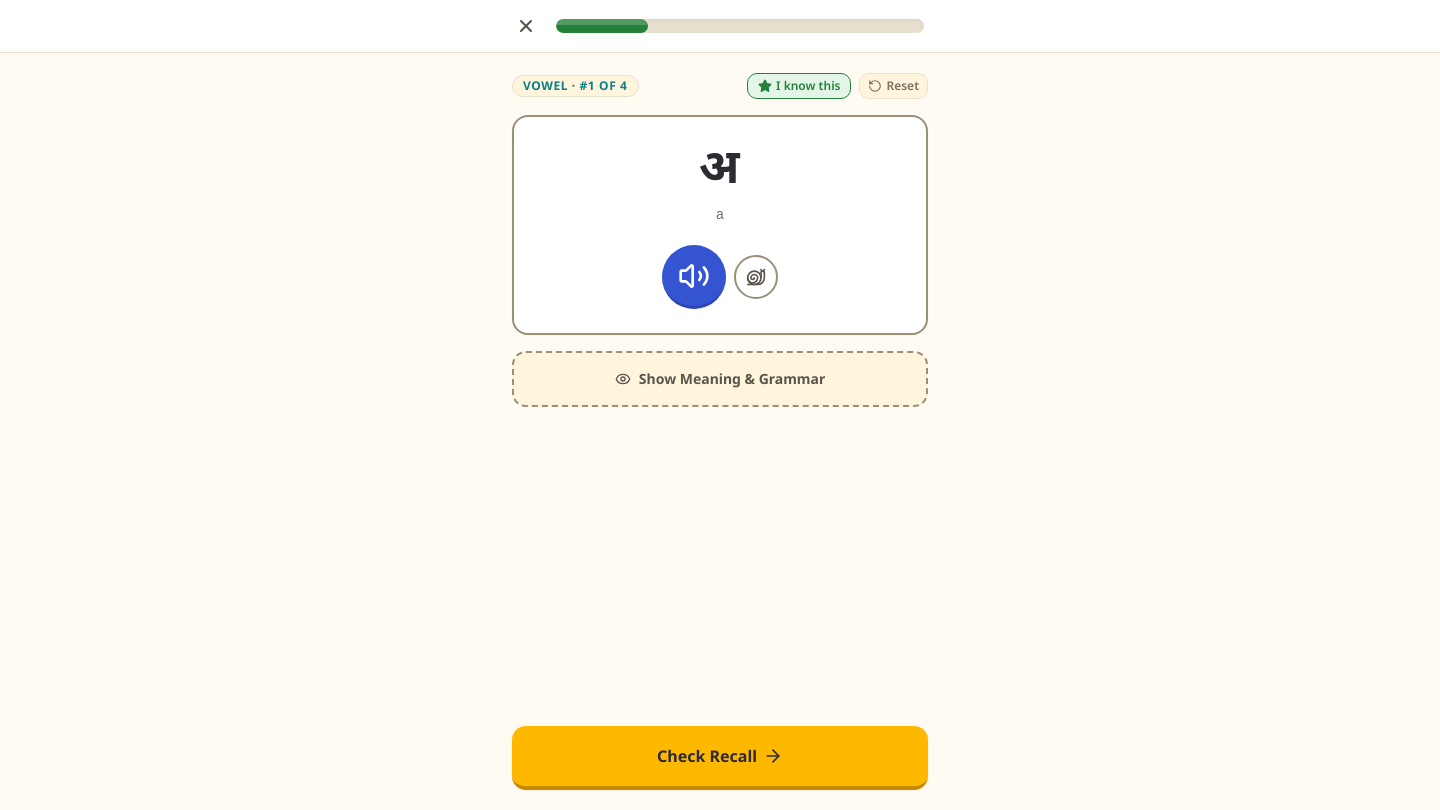
Scenario: Review Flow (SRS Spaced Repetition) › renders review prompt card with audio button, reveals answer, and submits rating
expect the element with test id "review-card" is shown: met, box [512,115,928,335]
expect the text "अ" is shown: met, box [699,141,741,189]
// Click reveal button to flip/show answer
Click the button with test id "review-reveal-btn" at (720, 379), box [512,351,928,407]
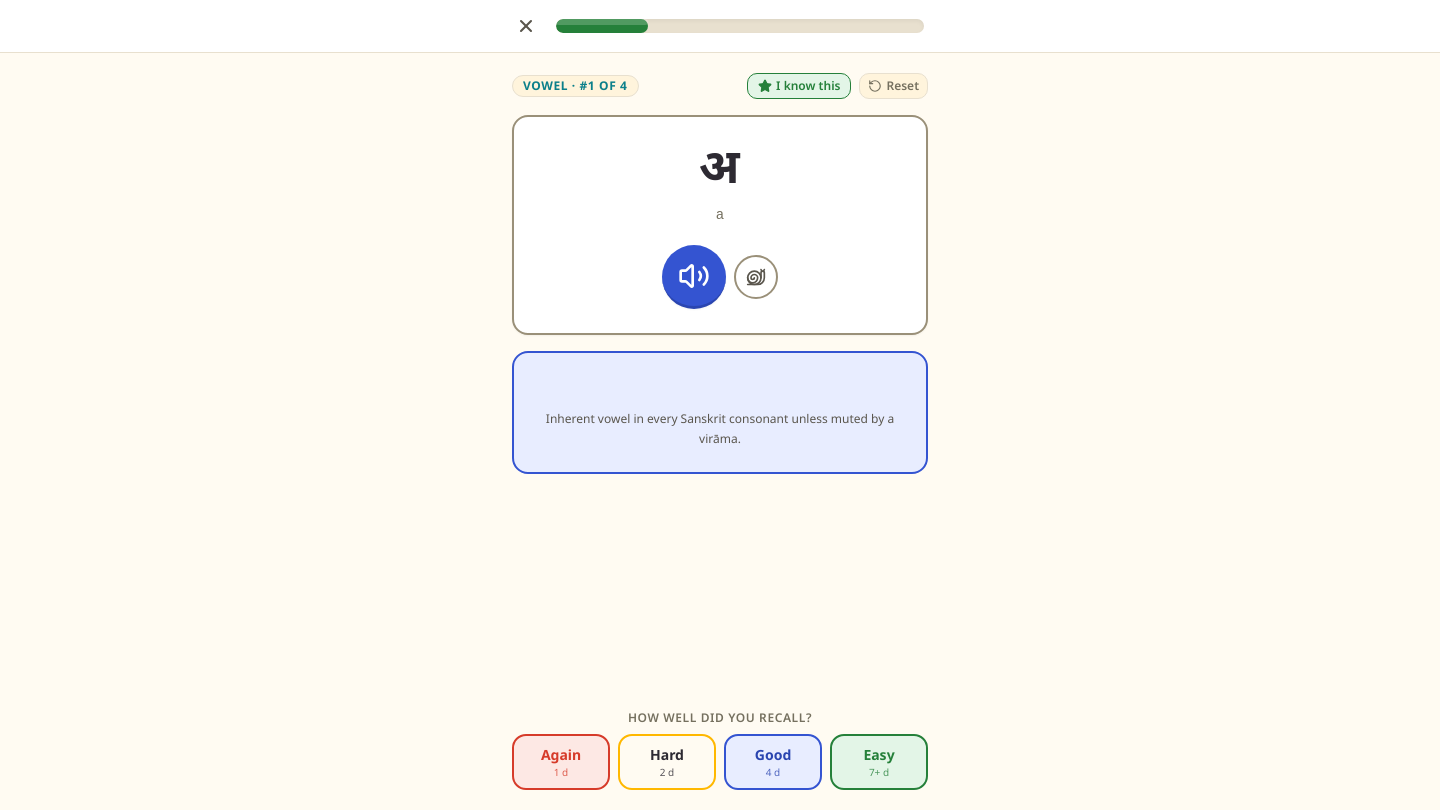
expect the element with test id "review-answer-card" is shown: met, box [512,351,928,474]
expect the button with test id "rate-good-btn" is shown: met
// Click "Good" rating (quality 4)
Click the button with test id "rate-good-btn" at (773, 762), box [724,734,822,790]
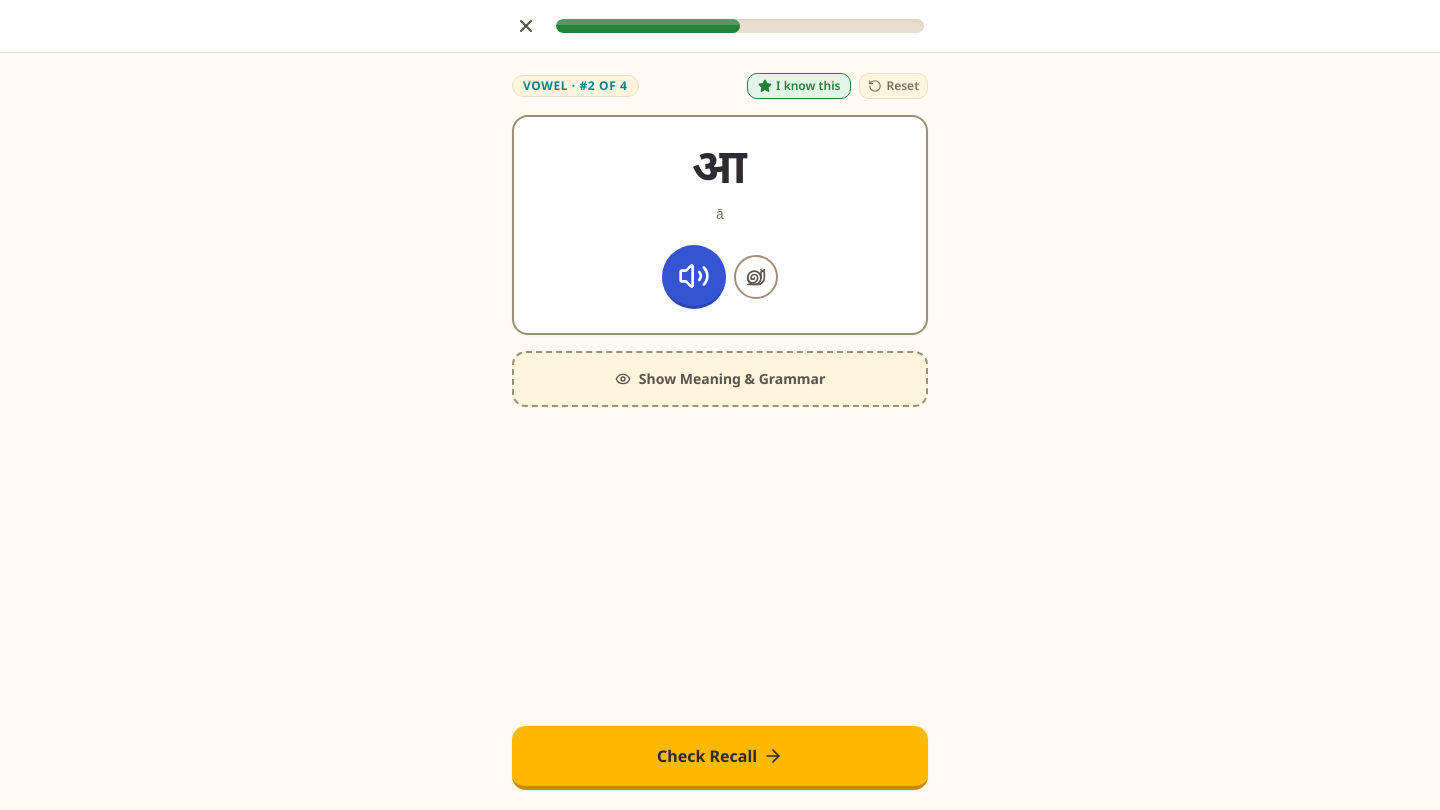
expect the element with test id "review-answer-card" is gone: met
expect the button with test id "review-reveal-btn" is shown: met, box [512,351,928,407]
